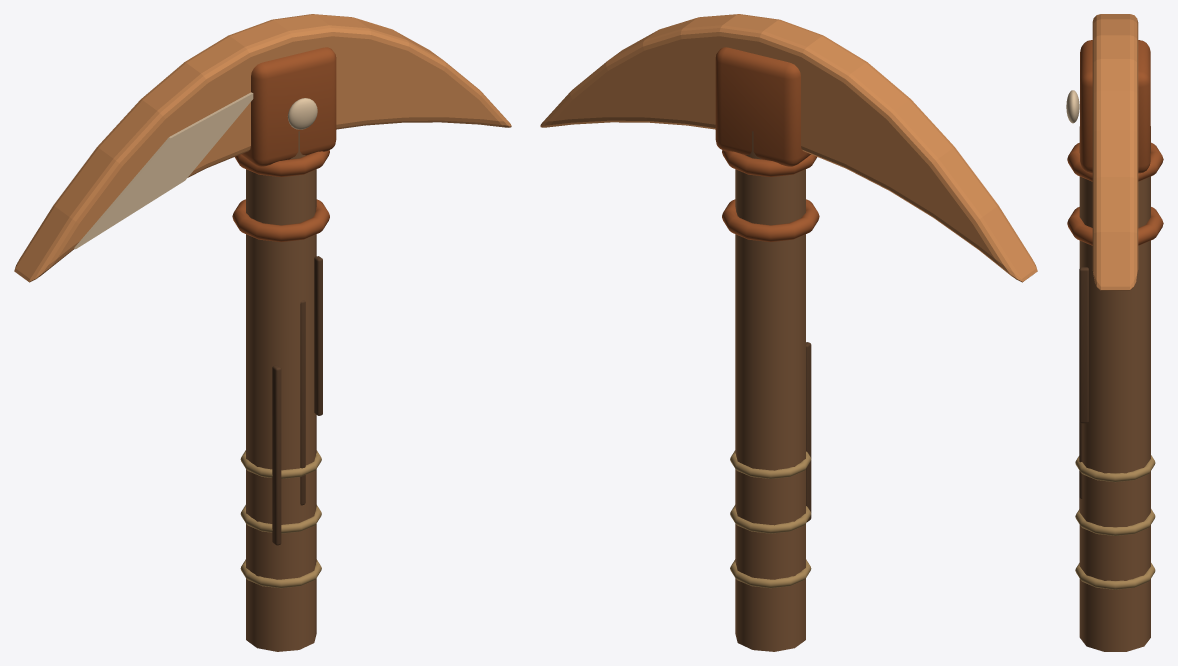
The model's file is pick2.glb.
3 views of the same model, side by side, from view 1: azimuth 30°, elevation 25°; view 2: azimuth 150°, elevation 25°; view 3: azimuth 270°, elevation 25° (orthographic).
Visible parts, largest first — view 1: _box.003, _box; view 2: _box.003, _box; view 3: _box, _box.003.
Boxes of the visible parts, bbox=[...] form: _box.003: bbox=[14, 14, 511, 282]; _box: bbox=[240, 131, 322, 651]; _box.003: bbox=[540, 14, 1037, 282]; _box: bbox=[730, 131, 811, 651]; _box: bbox=[1075, 126, 1155, 651]; _box.003: bbox=[1066, 14, 1163, 290].
Size of the model in its own units: 0.7404 by 0.8956 by 0.131.
